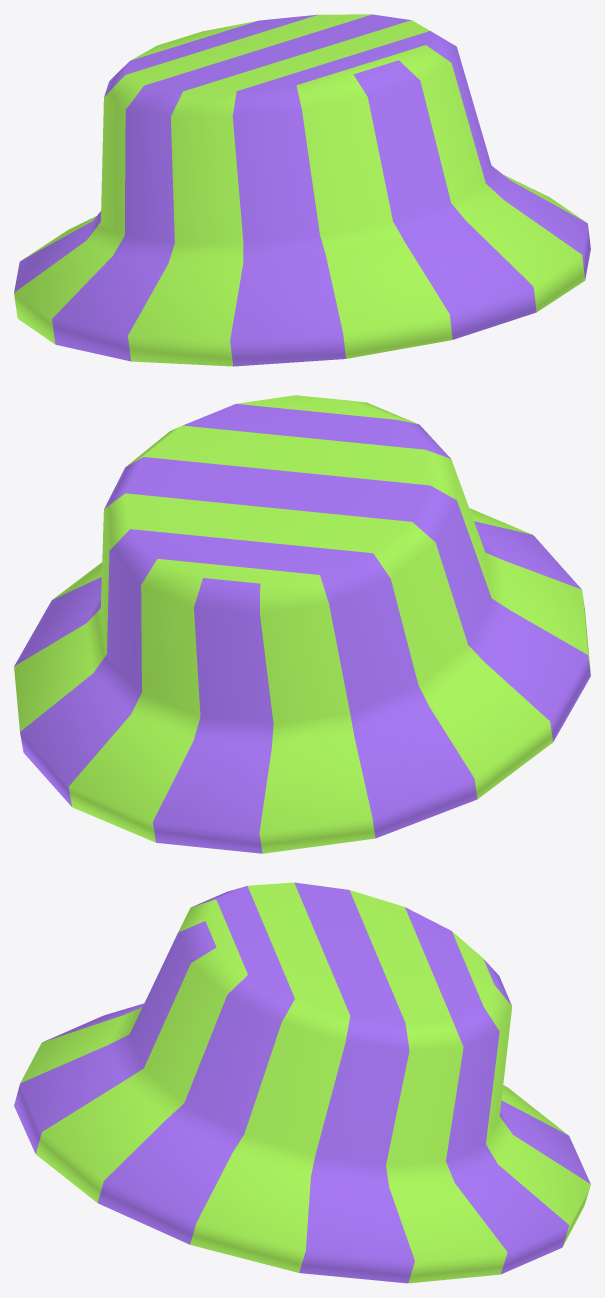
The model's file is accessory-buckethat.glb.
The picture shows the model from 3 angles, top to bottom: view 1: azimuth 30°, elevation 25°; view 2: azimuth 150°, elevation 25°; view 3: azimuth 270°, elevation 25°; orthographic projection. The views are drawn at different scales.
Visible parts, largest first — view 1: accessory__JA_m_Hat14__0; view 2: accessory__JA_m_Hat14__0; view 3: accessory__JA_m_Hat14__0.
Boxes of the visible parts, box(x1,y1,x2,y2) form: accessory__JA_m_Hat14__0: box(14, 14, 590, 366); accessory__JA_m_Hat14__0: box(14, 395, 590, 853); accessory__JA_m_Hat14__0: box(14, 882, 590, 1283).
Bounding box in the file's own units: 0.8103 × 0.4626 × 0.8455.
